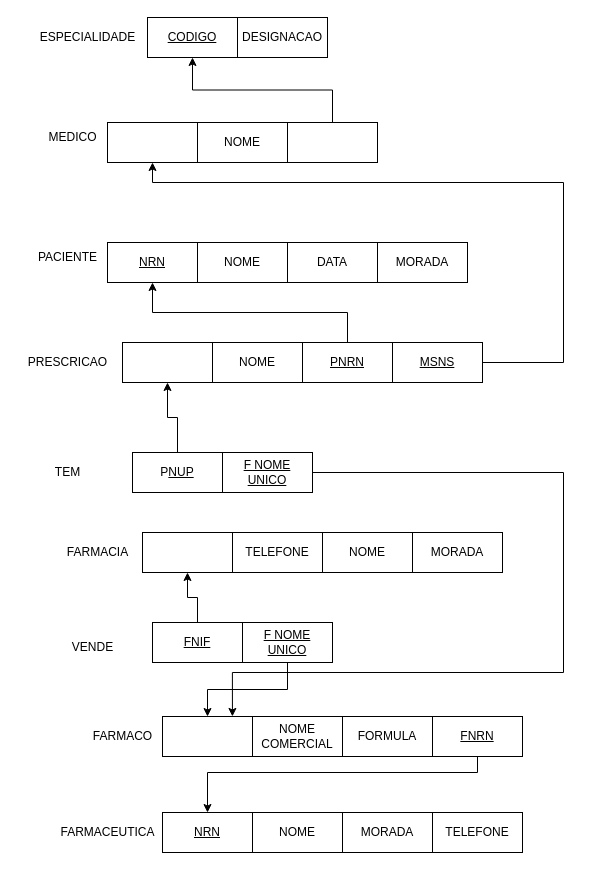
The diagram is 589 pixels wide and 870 high, and some of its shapes have lost their labels. The shapes that lost their labels are listed below. From the top down, each one's centre as x and y in pixels, then its label:
At [152,142]: "SNS".
At [332,142]: "ECODIGO".
At [167,362]: "NUP".
At [187,552]: "NIF".
At [207,736]: "NOME UNICO".
